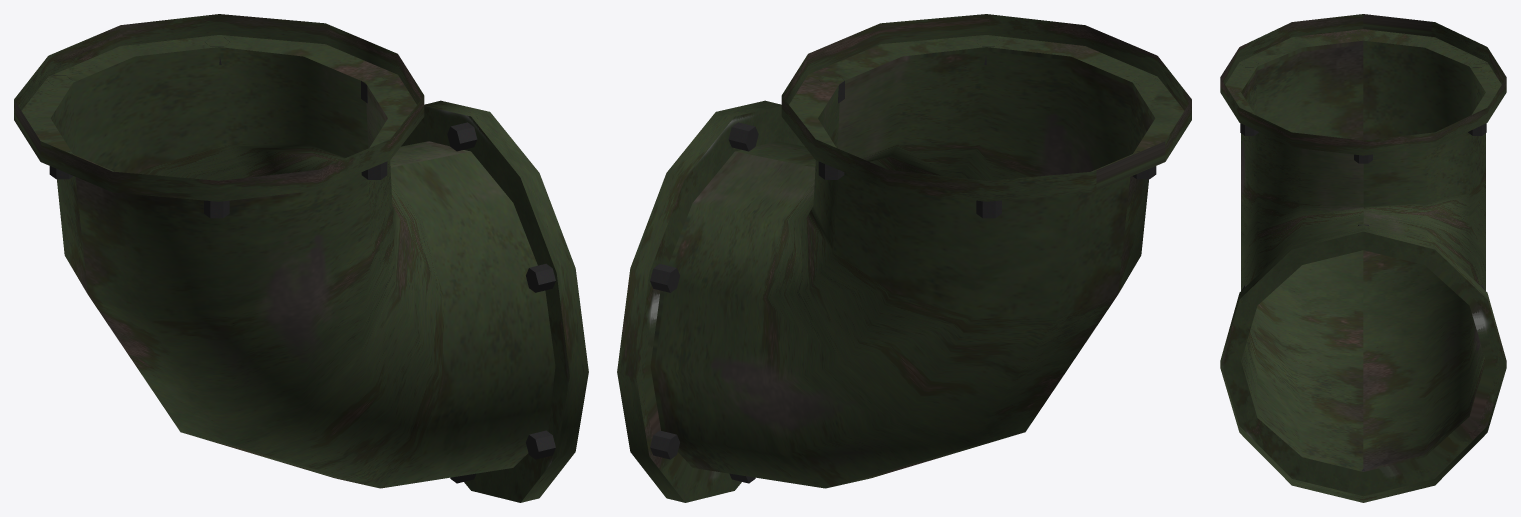
The model's file is Pipe_Curved.fbx.
The picture shows the model from 3 angles, left to right: view 1: azimuth 30°, elevation 25°; view 2: azimuth 150°, elevation 25°; view 3: azimuth 270°, elevation 25°; orthographic projection. The views are drawn at different scales.
Visible parts, largest first — view 1: CurvePipe1; view 2: CurvePipe1; view 3: CurvePipe1.
Part boxes in pixels (left/top/right/bottom): CurvePipe1: left=14, top=14, right=588, bottom=502; CurvePipe1: left=617, top=14, right=1191, bottom=502; CurvePipe1: left=1220, top=14, right=1506, bottom=502.
Size of the model in its own units: 3.08 by 2.97 by 2.34.
Materials: 1 (1 with a texture image).
